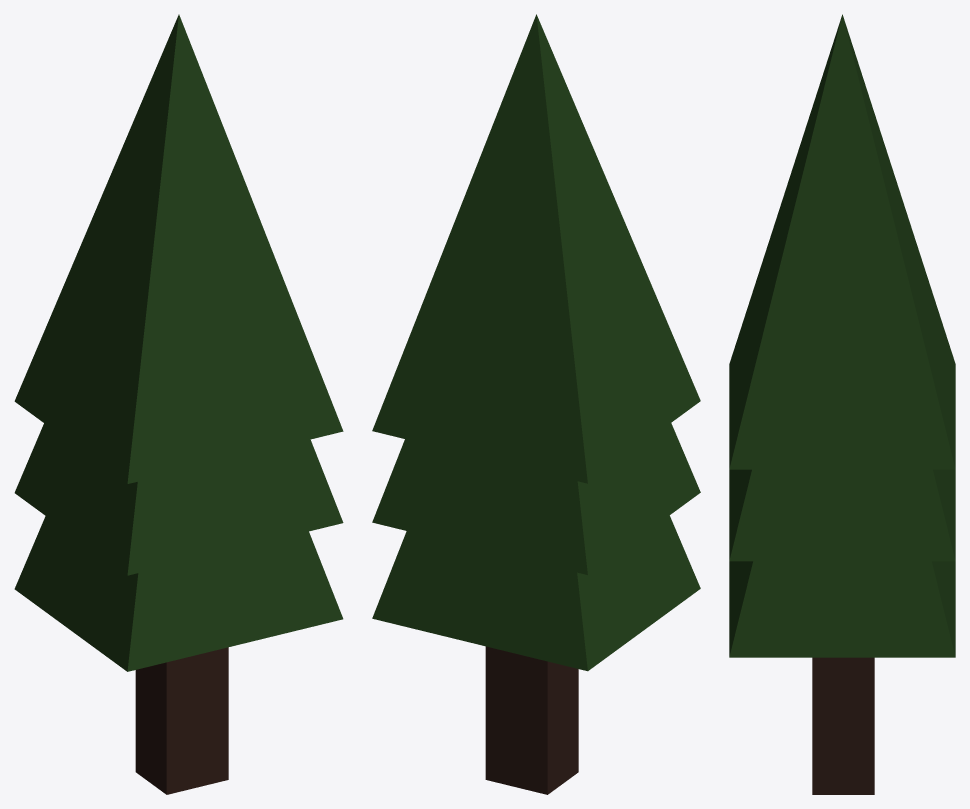
Rendered from Tree3UVW.fbx.
3 renders of one model, left to right at view 1: azimuth 30°, elevation 25°; view 2: azimuth 150°, elevation 25°; view 3: azimuth 270°, elevation 25°, orthographic.
Visible parts, largest first — view 1: Pyramid025; view 2: Pyramid025; view 3: Pyramid025.
Boxes of the visible parts, x1,y1,x2,y2 form: Pyramid025: [14, 14, 343, 794]; Pyramid025: [372, 14, 700, 794]; Pyramid025: [729, 14, 955, 794].
Size of the model in its own units: 10.06 by 33.97 by 9.12.
